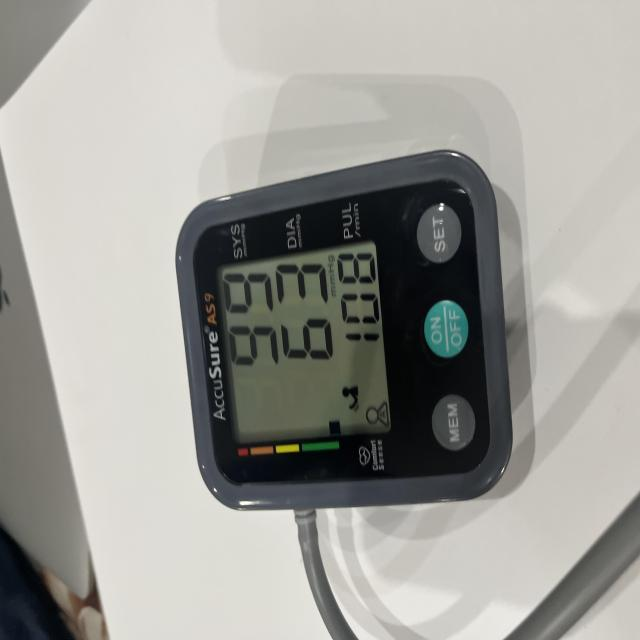bp: (185, 164, 511, 513)
